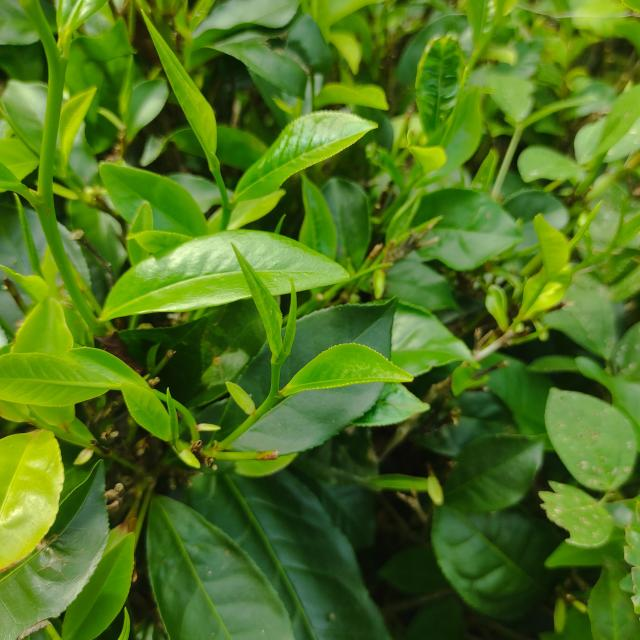unopened_leaf: (553, 194, 617, 265), (272, 272, 300, 375), (160, 378, 190, 453)
